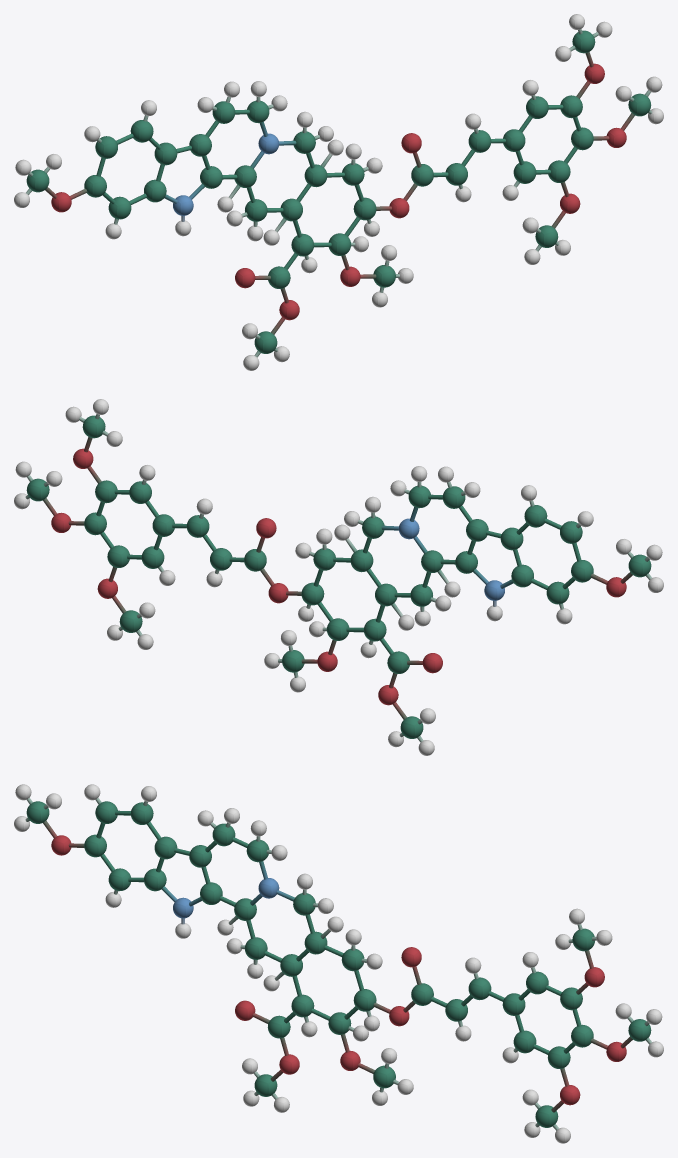
Rendered from Rescinnamine.fbx.
3 renders of one model, top to bottom at view 1: azimuth 30°, elevation 25°; view 2: azimuth 150°, elevation 25°; view 3: azimuth 330°, elevation 25°, orthographic.
Visible parts, largest first — view 1: curMeshHyperballExportedMesh; view 2: curMeshHyperballExportedMesh; view 3: curMeshHyperballExportedMesh.
Part boxes in pixels (x1=…): curMeshHyperballExportedMesh: x1=14, y1=14, x2=663, y2=370; curMeshHyperballExportedMesh: x1=14, y1=399, x2=663, y2=755; curMeshHyperballExportedMesh: x1=14, y1=784, x2=663, y2=1143.
Bounding box in the file's own units: 18.57 × 8.06 × 0.5667.
